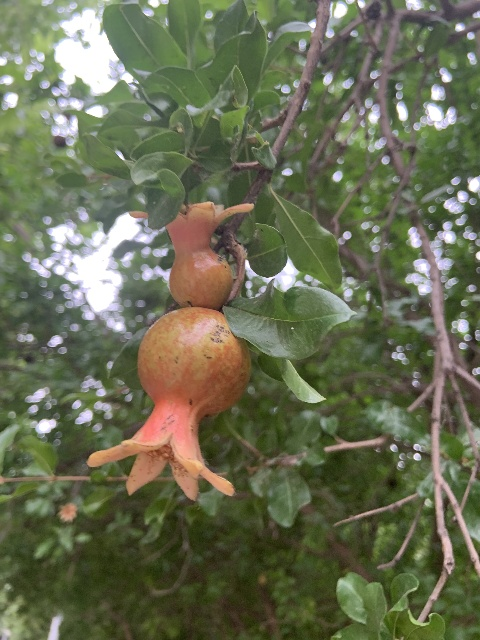early-fruit: (87, 306, 251, 503), (128, 201, 252, 310)
